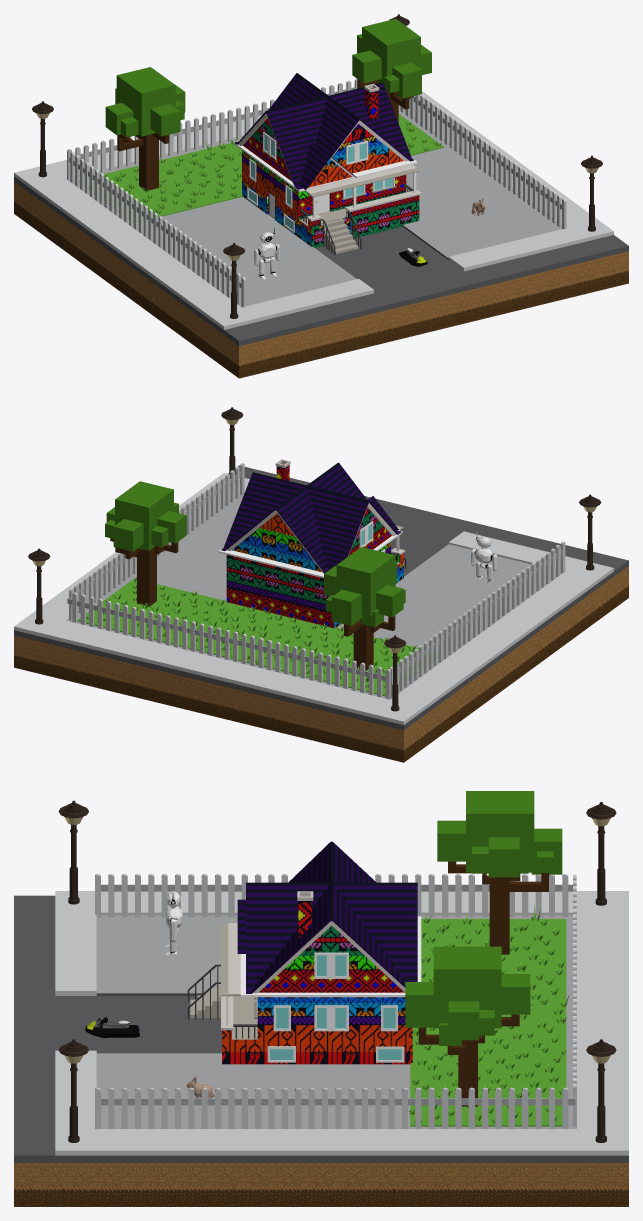
3 views of the same model, one above another, from view 1: azimuth 30°, elevation 25°; view 2: azimuth 150°, elevation 25°; view 3: azimuth 270°, elevation 25° (orthographic). The views are drawn at different scales.
Visible parts, largest first — view 1: Cube.004, Cube.966, OBJRANDOM_PLATZEEBOT; view 2: Cube.004, Cube.966, OBJRANDOM_PLATZEEBOT; view 3: Cube.004, Cube.966, VEHICLES_WATERBIKE, OBJRANDOM_PLATZEEBOT.
Boxes of the visible parts, left/top/right/bottom form: Cube.004: left=14, top=14, right=628, bottom=378; Cube.966: left=233, top=73, right=422, bottom=255; OBJRANDOM_PLATZEEBOT: left=254, top=227, right=280, bottom=279; Cube.004: left=14, top=407, right=628, bottom=762; Cube.966: left=218, top=459, right=406, bottom=627; OBJRANDOM_PLATZEEBOT: left=471, top=532, right=497, bottom=582; Cube.004: left=14, top=791, right=628, bottom=1206; Cube.966: left=187, top=841, right=421, bottom=1064; VEHICLES_WATERBIKE: left=85, top=1017, right=139, bottom=1037; OBJRANDOM_PLATZEEBOT: left=164, top=891, right=183, bottom=955.
Bounding box in the file's own units: 4000 × 1702 × 4000.
34 materials, 7 textured.
